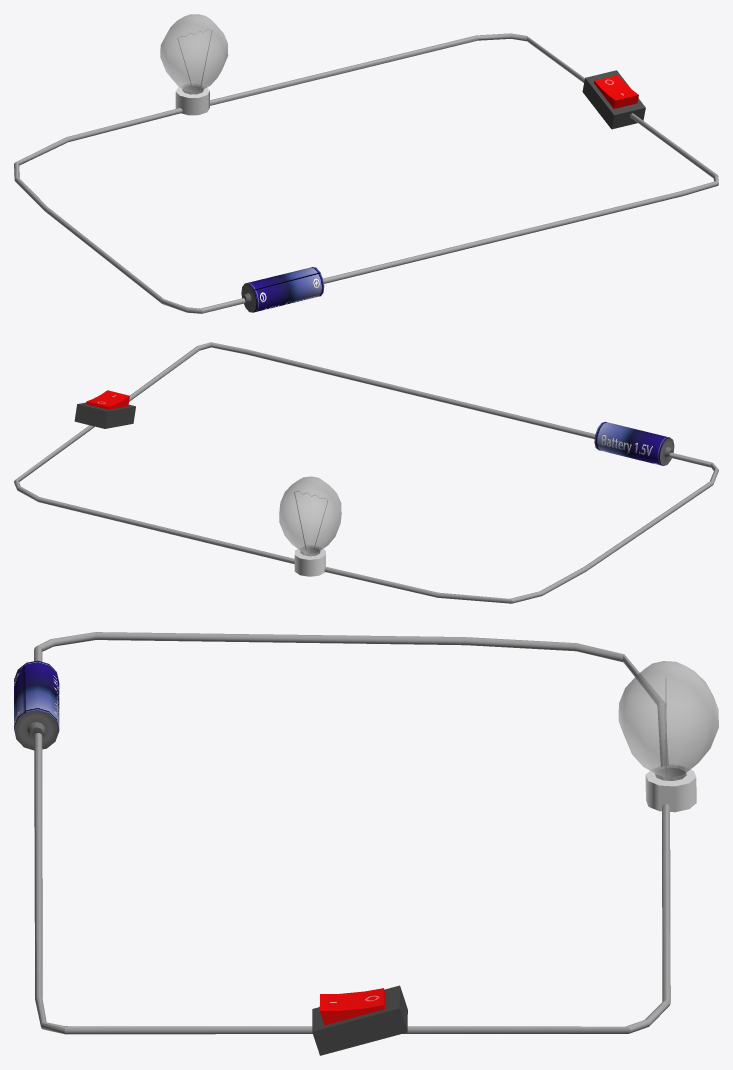
Rendered from simple_circuit.fbx.
3 renders of one model, top to bottom at view 1: azimuth 30°, elevation 25°; view 2: azimuth 150°, elevation 25°; view 3: azimuth 270°, elevation 25°, orthographic. The views are drawn at different scales.
Parts seen in each view (by area): view 1: wire, bulb, battery5, switch_in; view 2: wire, bulb, battery5, switch_in; view 3: wire, bulb, switch_in, battery5.
Part boxes in pixels (x1,y1,x2,y2): wire: [14, 33, 718, 313]; bulb: [160, 14, 228, 115]; battery5: [241, 267, 324, 312]; switch_in: [582, 70, 645, 129]; wire: [14, 342, 718, 603]; bulb: [279, 476, 341, 576]; battery5: [594, 421, 674, 465]; switch_in: [74, 390, 135, 428]; wire: [34, 632, 670, 1034]; bulb: [618, 661, 718, 812]; switch_in: [312, 985, 407, 1055]; battery5: [14, 660, 59, 750].
Bounding box in the file's own units: 117 × 20.45 × 85.74.
7 materials, 2 textured.
